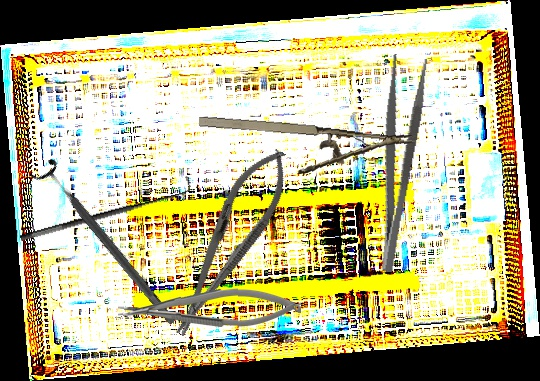Dressing Forceps: (358, 53, 432, 274)
Fixation Ring: (29, 156, 185, 333)
Hook Surgical: (16, 175, 195, 244)
Needle Holder: (156, 138, 303, 347), (194, 109, 416, 188), (117, 286, 302, 329)
